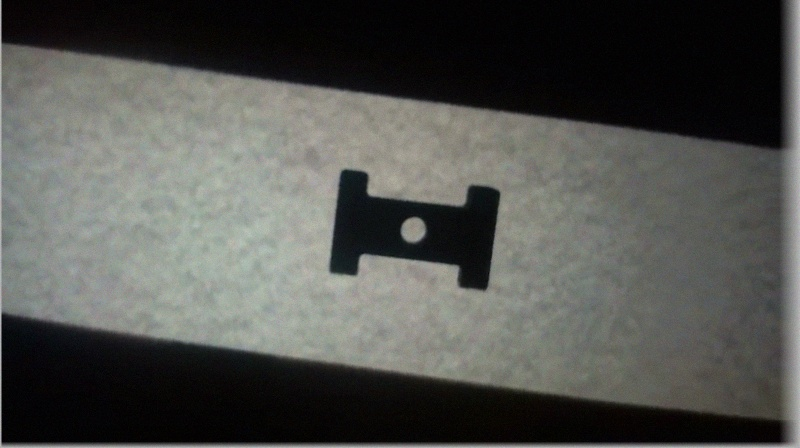O002: (324, 167, 502, 293)
